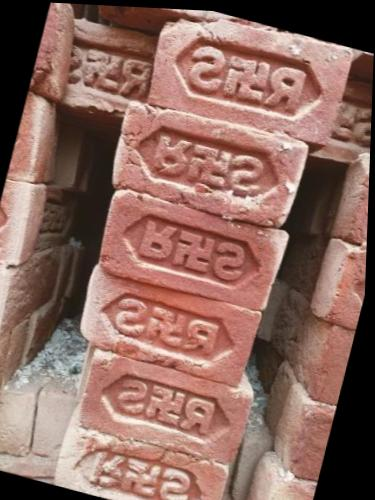brick: (139, 7, 355, 150), (103, 96, 307, 233), (93, 189, 288, 318), (71, 264, 260, 388), (69, 345, 254, 467), (47, 420, 229, 500), (56, 14, 165, 124), (24, 388, 72, 464), (0, 384, 41, 463)
